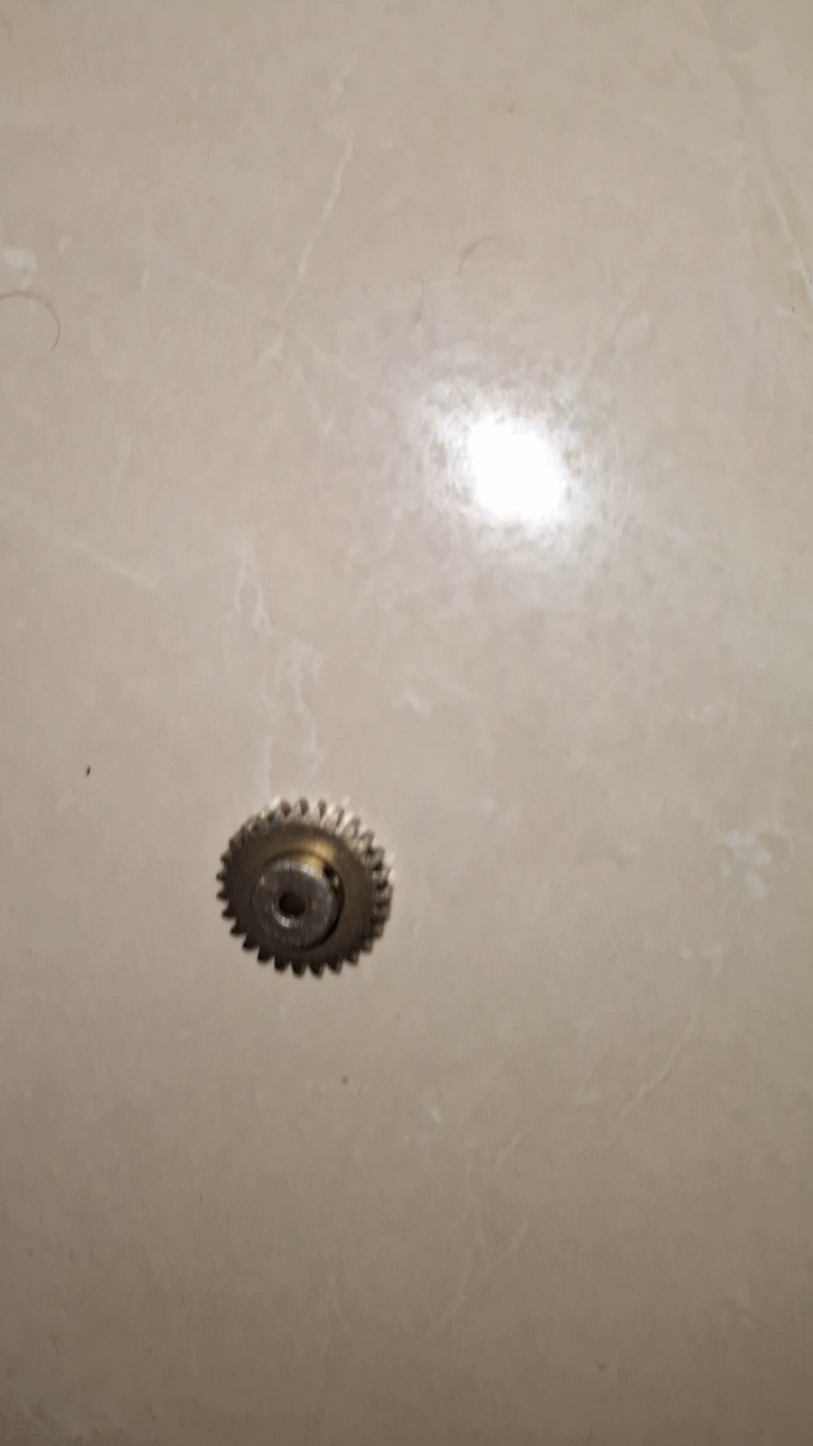spur gear: (218, 799, 391, 973)
